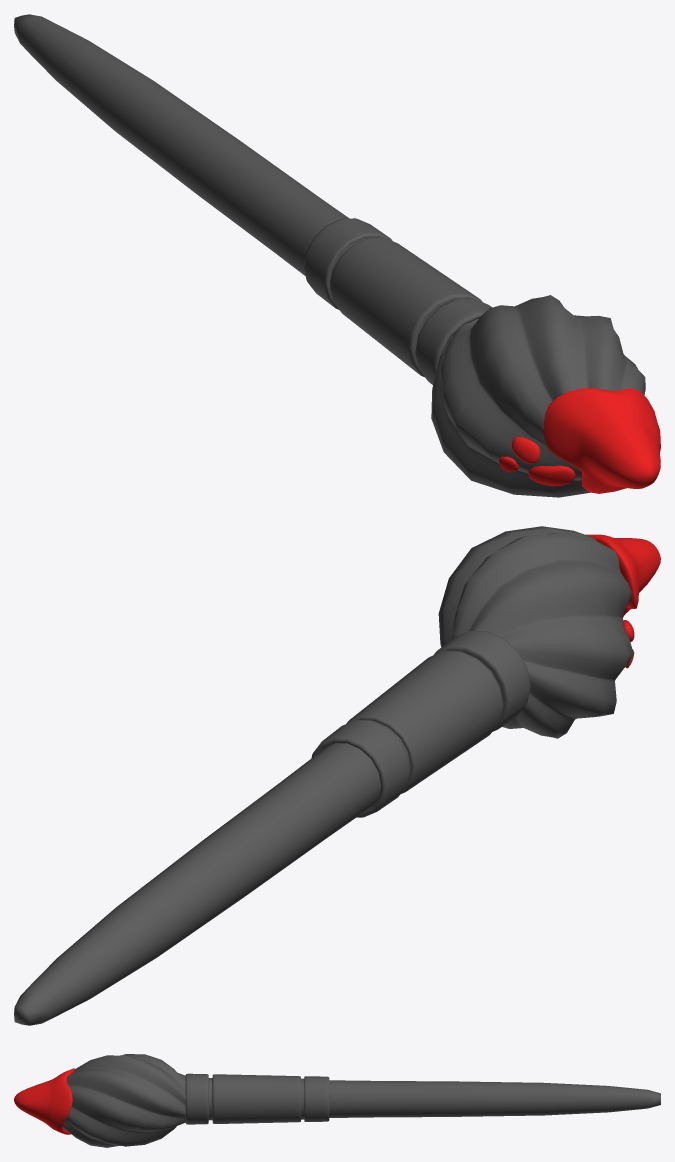
File: BigBrush.fbx
The picture shows the model from 3 angles, top to bottom: view 1: azimuth 30°, elevation 25°; view 2: azimuth 150°, elevation 25°; view 3: azimuth 270°, elevation 25°; orthographic projection. The views are drawn at different scales.
Visible parts, largest first — view 1: Bristles, Handle, Ferrule, PaintBullet; view 2: Handle, Bristles, Ferrule, PaintBullet; view 3: Handle, Bristles, Ferrule, PaintBullet.
Boxes of the visible parts, x1,y1,x2,y2 form: Bristles: (431,295,645,497); Handle: (14,14,349,275); Ferrule: (303,218,492,384); PaintBullet: (498,388,660,493); Handle: (14,743,381,1025); Bristles: (438,526,633,738); Ferrule: (311,630,530,817); PaintBullet: (585,534,660,668); Handle: (329,1080,660,1117); Bristles: (62,1054,185,1147); Ferrule: (185,1073,329,1124); PaintBullet: (14,1068,74,1134).
Size of the model in its own units: 3.8 by 3.94 by 24.28.
